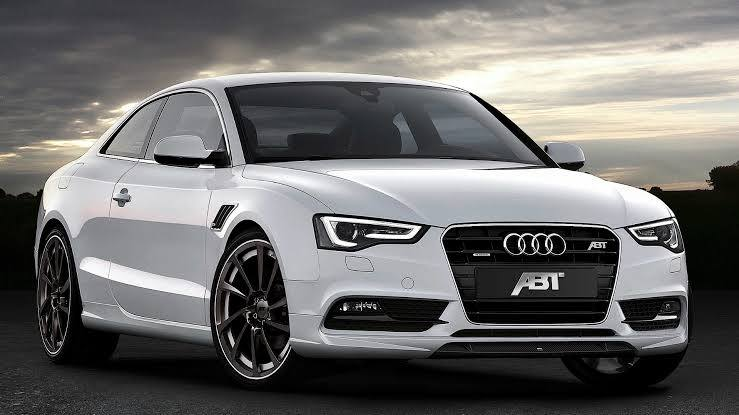audi: (13, 63, 695, 397)
